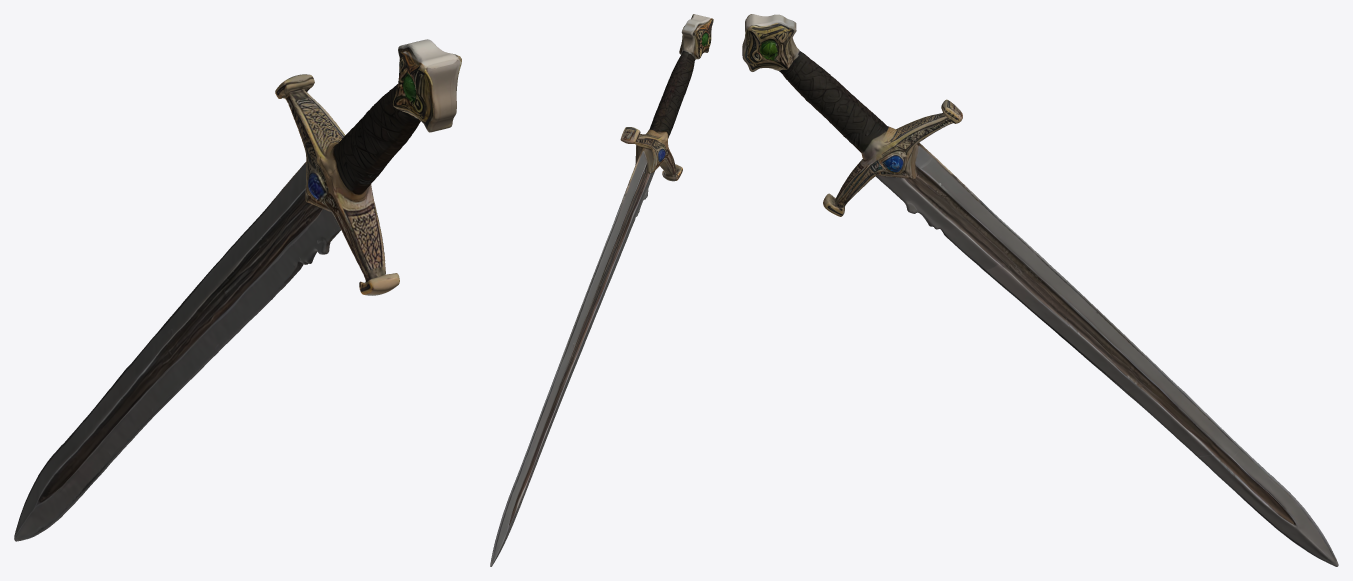
3 renders of one model, left to right at view 1: azimuth 30°, elevation 25°; view 2: azimuth 150°, elevation 25°; view 3: azimuth 270°, elevation 25°, orthographic. The views are drawn at different scales.
Visible parts, largest first — view 1: tripo_node_b93092b2-ab18-4830-8137-0676ce76721c; view 2: tripo_node_b93092b2-ab18-4830-8137-0676ce76721c; view 3: tripo_node_b93092b2-ab18-4830-8137-0676ce76721c.
Part boxes in pixels (bbox=[...]): tripo_node_b93092b2-ab18-4830-8137-0676ce76721c: bbox=[14, 39, 461, 541]; tripo_node_b93092b2-ab18-4830-8137-0676ce76721c: bbox=[490, 14, 713, 566]; tripo_node_b93092b2-ab18-4830-8137-0676ce76721c: bbox=[742, 14, 1338, 566].
Size of the model in its own units: 0.0674 by 1 by 0.984.
1 material, 1 textured.
